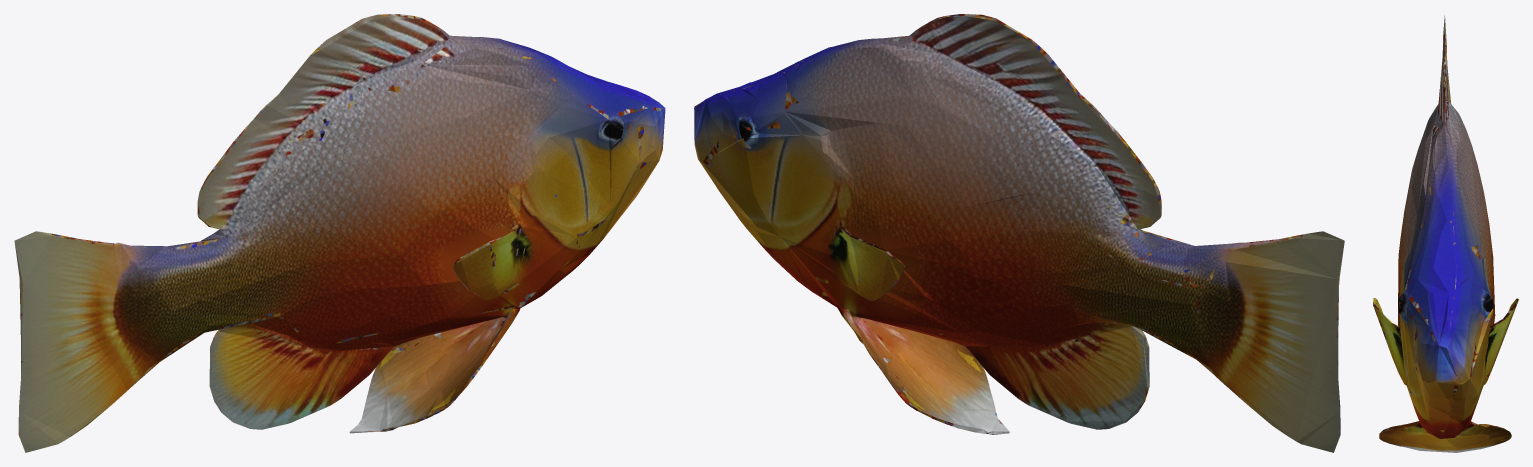
File: fish_0038_smpl23_resized.glb
The picture shows the model from 3 angles, left to right: view 1: azimuth 30°, elevation 25°; view 2: azimuth 150°, elevation 25°; view 3: azimuth 270°, elevation 25°; orthographic projection. The views are drawn at different scales.
Parts seen in each view (by area): view 1: world; view 2: world; view 3: world.
Boxes of the visible parts, left/top/right/bottom form: world: left=14, top=14, right=665, bottom=452; world: left=694, top=14, right=1344, bottom=452; world: left=1373, top=15, right=1518, bottom=452.
Bounding box in the file's own units: 1.99 × 1.21 × 0.396.
1 material, 1 textured.
